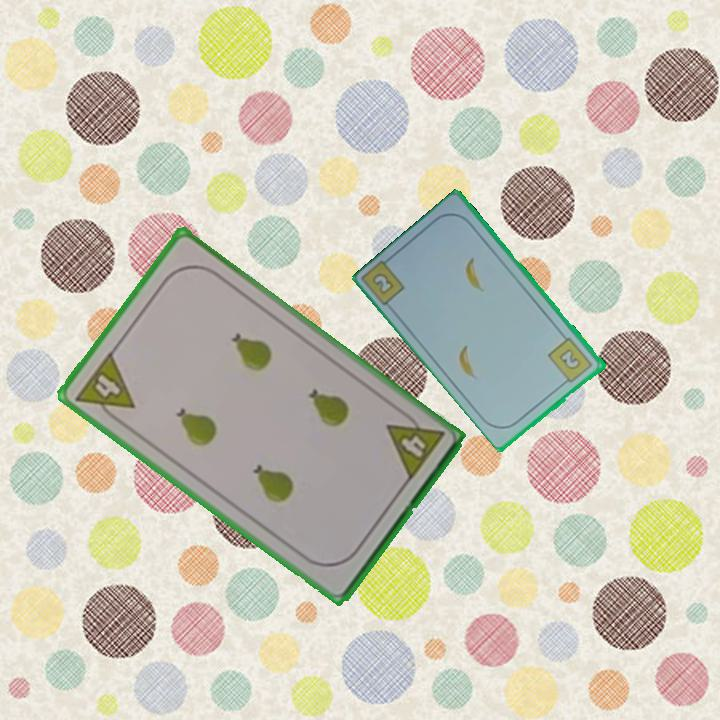2b: (545, 334, 596, 388), (369, 269, 397, 298)
4p: (72, 348, 138, 428), (382, 406, 447, 484)
